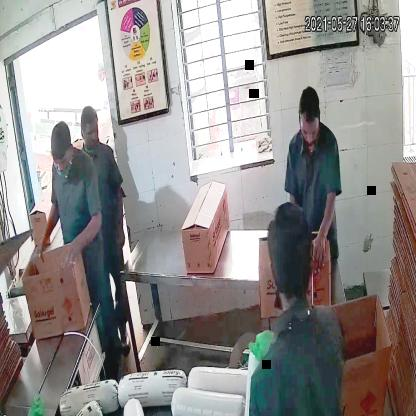no_goggles: (47, 152, 76, 174)
